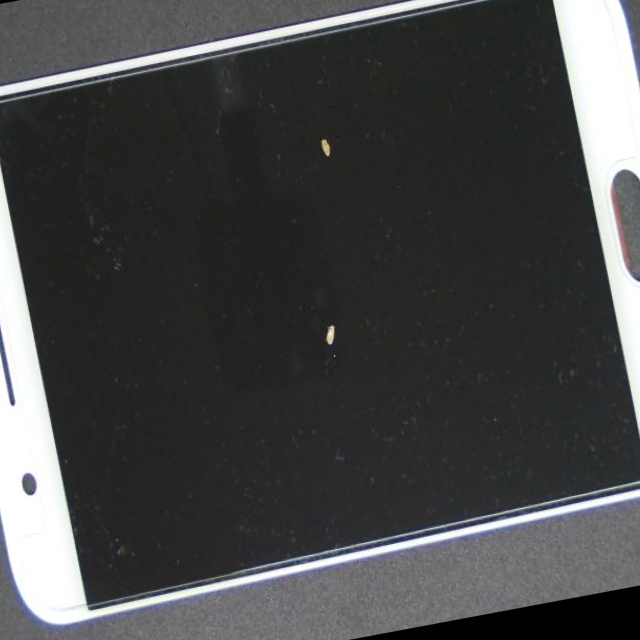stain: (95, 87, 538, 555), (91, 33, 530, 339)
